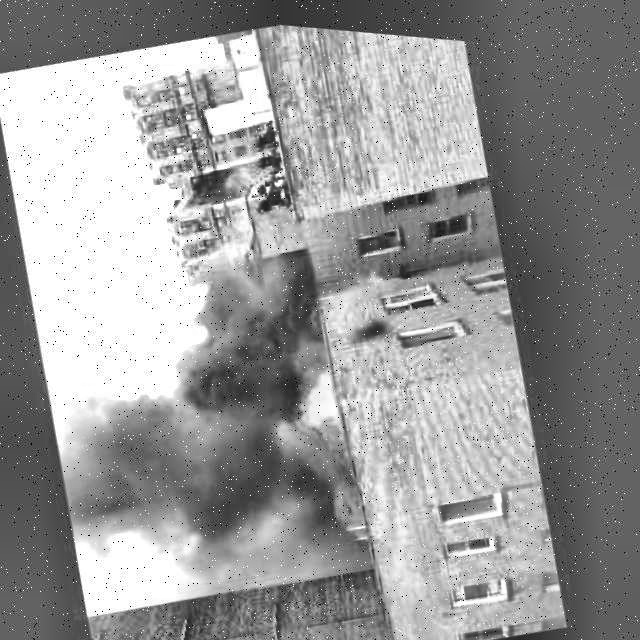Fire: (283, 350, 363, 459)
Smoke: (29, 275, 358, 610)
